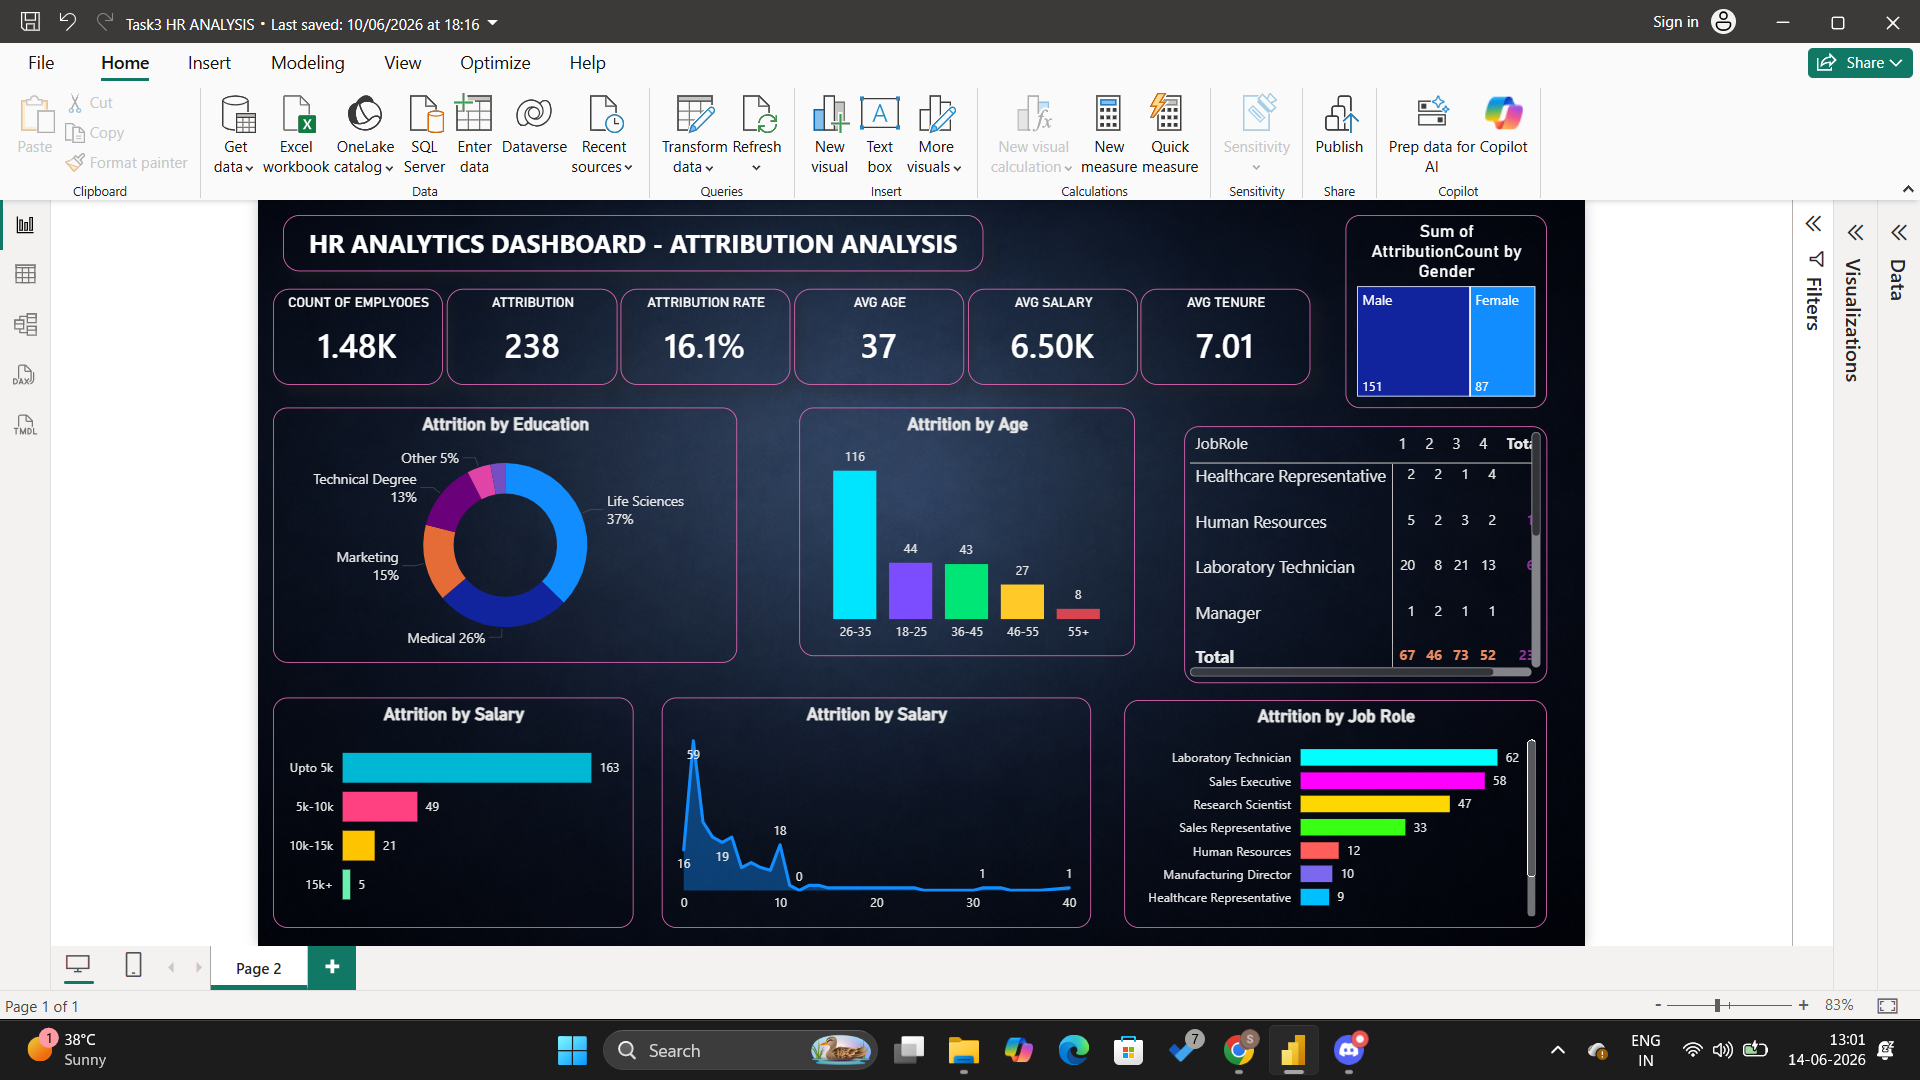

Layout of this report page (visuals, bound fields, positions):
{"tool":"powerbi","page":{"name":"Page 2","canvas":[1280,720],"ordinal":0},"visuals":[{"type":"textbox","box":[24,14,676,54],"z":0},{"type":"cardVisual","title":"COUNT OF EMPLYOOES","fields":{"Data":["CountNonNull(Worksheet.EmpID)"]},"box":[14,86,163.8,92.5],"z":0,"group":"g1"},{"type":"group","id":"g1","title":"Group 1","box":[14,86,1002,92],"z":1000},{"type":"cardVisual","title":"ATTRIBUTION","fields":{"Data":["Sum(Worksheet.AttributionCount)"]},"box":[181.2,86,165,92.5],"z":1000,"group":"g1"},{"type":"treemap","fields":{"Group":["Worksheet.Gender"],"Values":["Sum(Worksheet.AttributionCount)"]},"box":[1050,14,194,186],"z":2000},{"type":"cardVisual","title":"ATTRIBUTION RATE","fields":{"Data":["Worksheet.AttributionRate"]},"box":[349.8,86,163.8,92.5],"z":2000,"group":"g1"},{"type":"cardVisual","title":"AVG AGE","fields":{"Data":["Avg(Worksheet.Age)"]},"box":[517,86,163.8,92.5],"z":3000,"group":"g1"},{"type":"donutChart","title":"Attrition by Education","fields":{"Category":["Worksheet.EducationField","Worksheet.YearsAtCompany"],"Y":["Sum(Worksheet.AttributionCount)"]},"box":[14,200,448,246],"z":3000},{"type":"cardVisual","title":"AVG SALARY","fields":{"Data":["Avg(Worksheet.MonthlyIncome)"]},"box":[684.2,86,163.8,92.5],"z":4000,"group":"g1"},{"type":"columnChart","title":"Attrition by Age","fields":{"Category":["Worksheet.AgeGroup"],"Y":["Sum(Worksheet.AttributionCount)"]},"box":[522,200,324,240],"z":4000},{"type":"cardVisual","title":"AVG TENURE","fields":{"Data":["Avg(Worksheet.YearsAtCompany)"]},"box":[851.5,86,163.8,92.5],"z":5000,"group":"g1"},{"type":"pivotTable","fields":{"Rows":["Worksheet.JobRole"],"Columns":["Worksheet.JobSatisfaction"],"Values":["Sum(Worksheet.AttributionCount)"]},"box":[894,218,350,248],"z":5000},{"type":"barChart","title":"Attrition by Salary","fields":{"Category":["Worksheet.SalarySlab"],"Y":["Sum(Worksheet.AttributionCount)"]},"box":[14,480,348,222],"z":5001},{"type":"areaChart","title":"Attrition by Salary","fields":{"Category":["Worksheet.YearsAtCompany"],"Y":["Sum(Worksheet.AttributionCount)"]},"box":[390,480,414,222],"z":5002},{"type":"barChart","title":"Attrition by Job Role","fields":{"Category":["Worksheet.JobRole"],"Y":["Sum(Worksheet.AttributionCount)"]},"box":[836,482,408,220],"z":5003}]}

Visuals, with their boxes on the page's 1280x720 design canvas (x1, y1, x2, y2). These are canvas units, not pixel positions in the 1920x1080 screenshot, which may show the page scaled, cropped or inside an application window:
textbox: left=24, top=14, right=700, bottom=68
"COUNT OF EMPLYOOES" cardVisual: left=14, top=86, right=178, bottom=178
"Group 1" group: left=14, top=86, right=1016, bottom=178
"ATTRIBUTION" cardVisual: left=181, top=86, right=346, bottom=178
treemap - Worksheet.Gender x Sum(Worksheet.AttributionCount): left=1050, top=14, right=1244, bottom=200
"ATTRIBUTION RATE" cardVisual: left=350, top=86, right=514, bottom=178
"AVG AGE" cardVisual: left=517, top=86, right=681, bottom=178
"Attrition by Education" donutChart: left=14, top=200, right=462, bottom=446
"AVG SALARY" cardVisual: left=684, top=86, right=848, bottom=178
"Attrition by Age" columnChart: left=522, top=200, right=846, bottom=440
"AVG TENURE" cardVisual: left=852, top=86, right=1015, bottom=178
pivotTable - Worksheet.JobRole x Worksheet.JobSatisfaction: left=894, top=218, right=1244, bottom=466
"Attrition by Salary" barChart: left=14, top=480, right=362, bottom=702
"Attrition by Salary" areaChart: left=390, top=480, right=804, bottom=702
"Attrition by Job Role" barChart: left=836, top=482, right=1244, bottom=702
